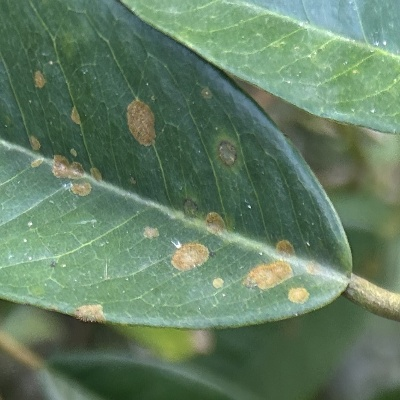Leaf_Algal: (0, 0, 374, 343)
